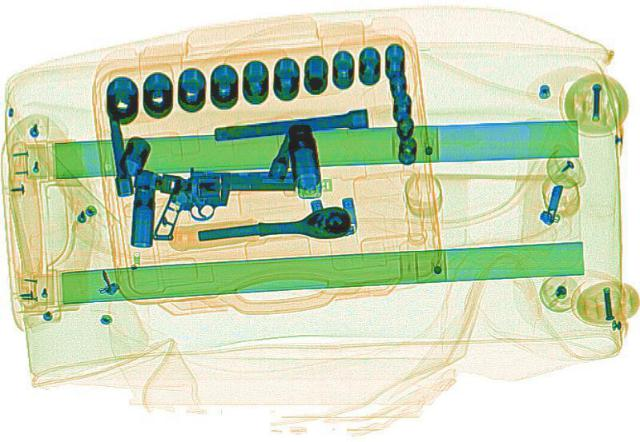Gun: (152, 167, 298, 241)
